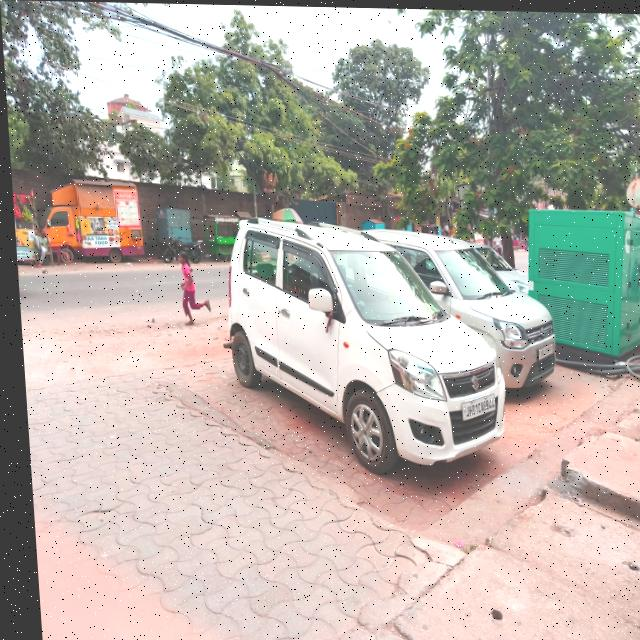bike: (161, 228, 200, 268)
car: (212, 216, 510, 471), (370, 223, 553, 396)
